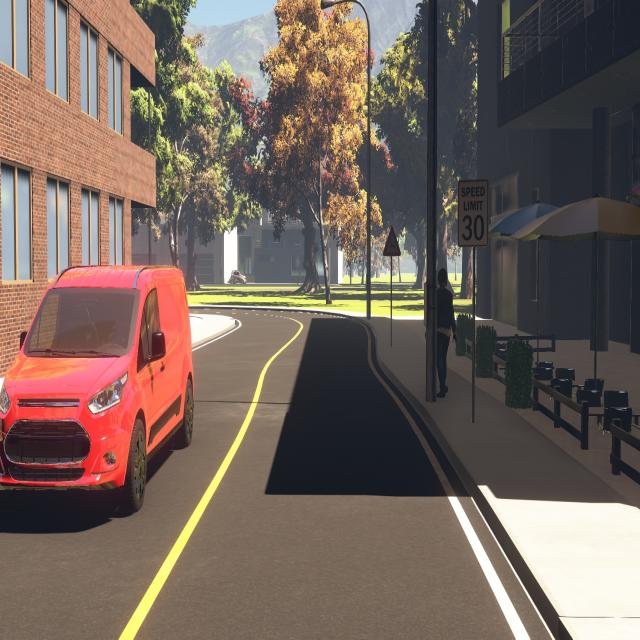speedLimit30: (458, 180, 488, 245)
